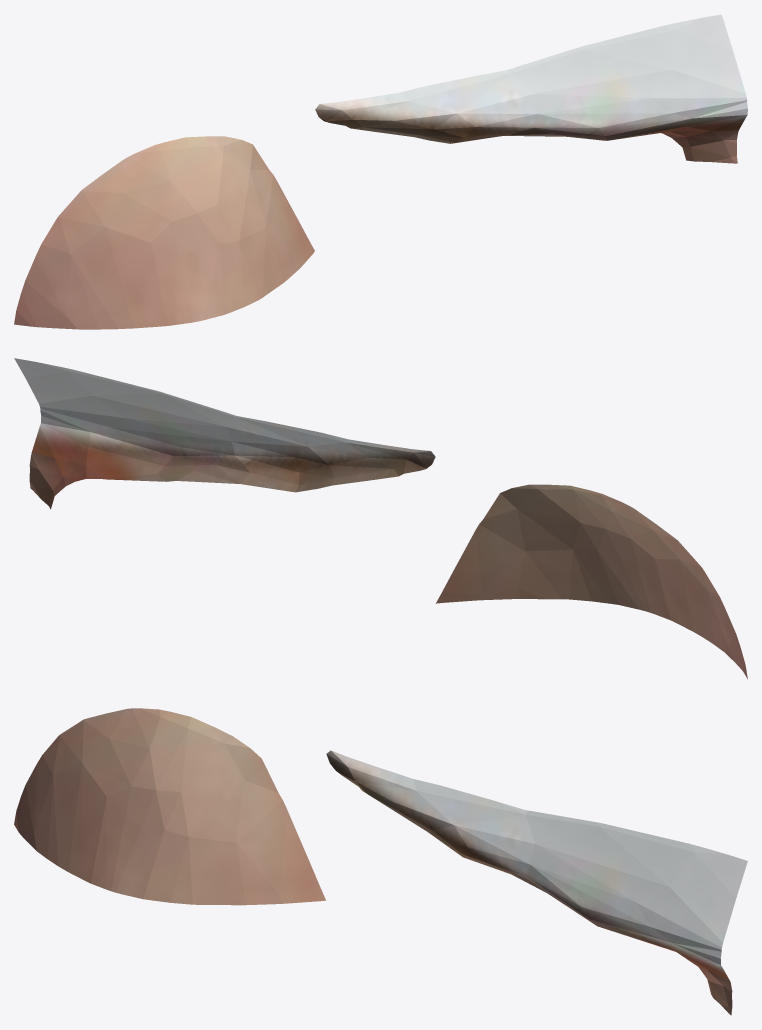
3 views of the same model, one above another, from view 1: azimuth 30°, elevation 25°; view 2: azimuth 150°, elevation 25°; view 3: azimuth 330°, elevation 25° (orthographic). The views are drawn at different scales.
Visible parts, largest first — view 1: 091_W_Aya_100K_01; view 2: 091_W_Aya_100K_01; view 3: 091_W_Aya_100K_01.
Boxes of the visible parts, x1,y1,x2,y2 form: 091_W_Aya_100K_01: (14, 14, 747, 329); 091_W_Aya_100K_01: (14, 358, 747, 679); 091_W_Aya_100K_01: (14, 708, 747, 1015).
Bounding box in the file's own units: 96.18 × 18.96 × 10.14.
Materials: 1 (1 with a texture image).
